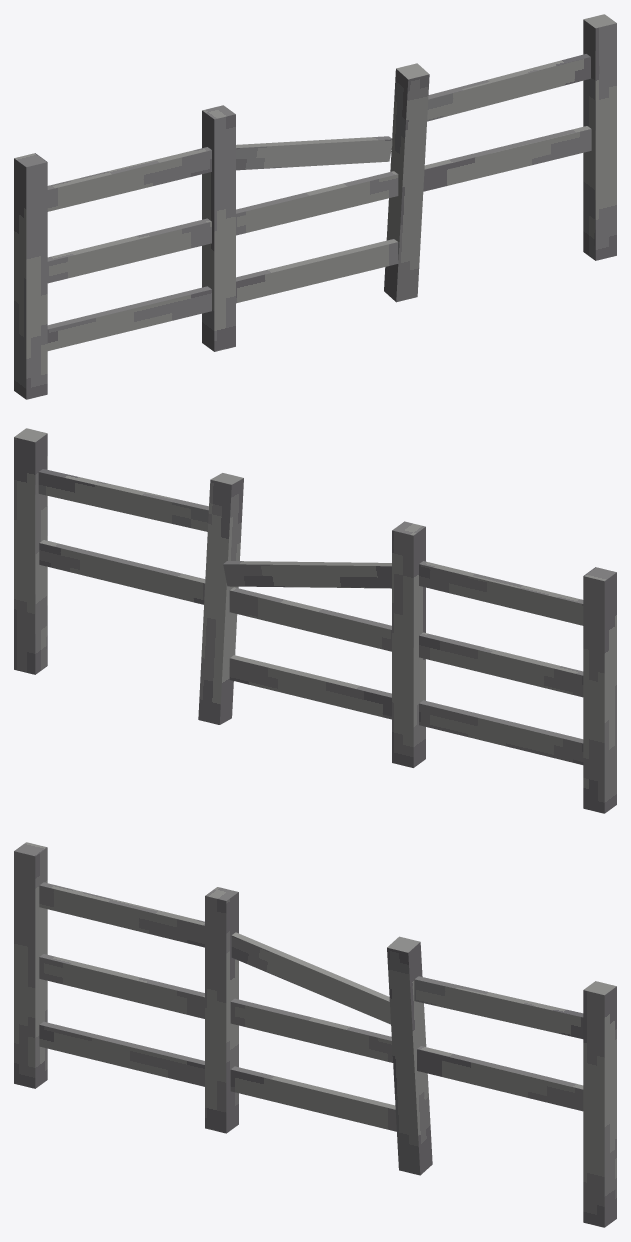
File: Fence_3.fbx
The picture shows the model from 3 angles, top to bottom: view 1: azimuth 30°, elevation 25°; view 2: azimuth 150°, elevation 25°; view 3: azimuth 330°, elevation 25°; orthographic projection.
Parts seen in each view (by area): view 1: Cube.008; view 2: Cube.008; view 3: Cube.008.
Boxes of the visible parts, bbox=[...] form: Cube.008: bbox=[14, 14, 616, 399]; Cube.008: bbox=[14, 428, 616, 813]; Cube.008: bbox=[14, 842, 616, 1227].
Bounding box in the file's own units: 1127 × 426 × 80.42.
1 material, 1 textured.
